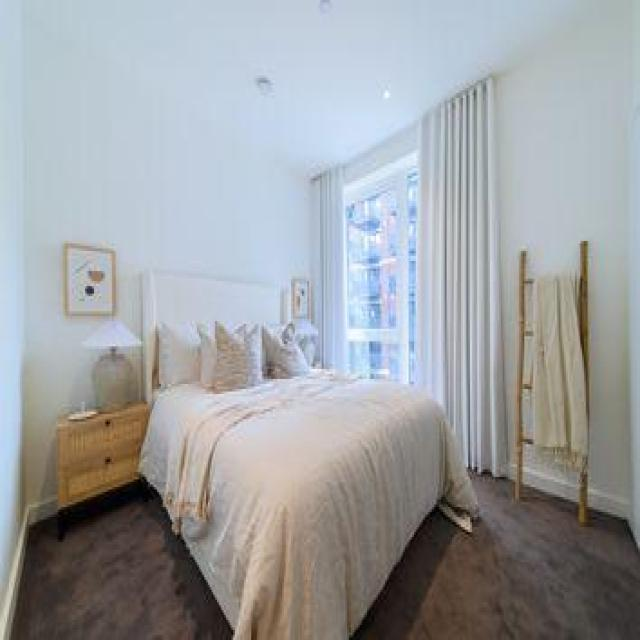Wall: (0, 0, 311, 636), (29, 0, 579, 173), (492, 2, 640, 542), (354, 474, 640, 638), (12, 482, 231, 639)
